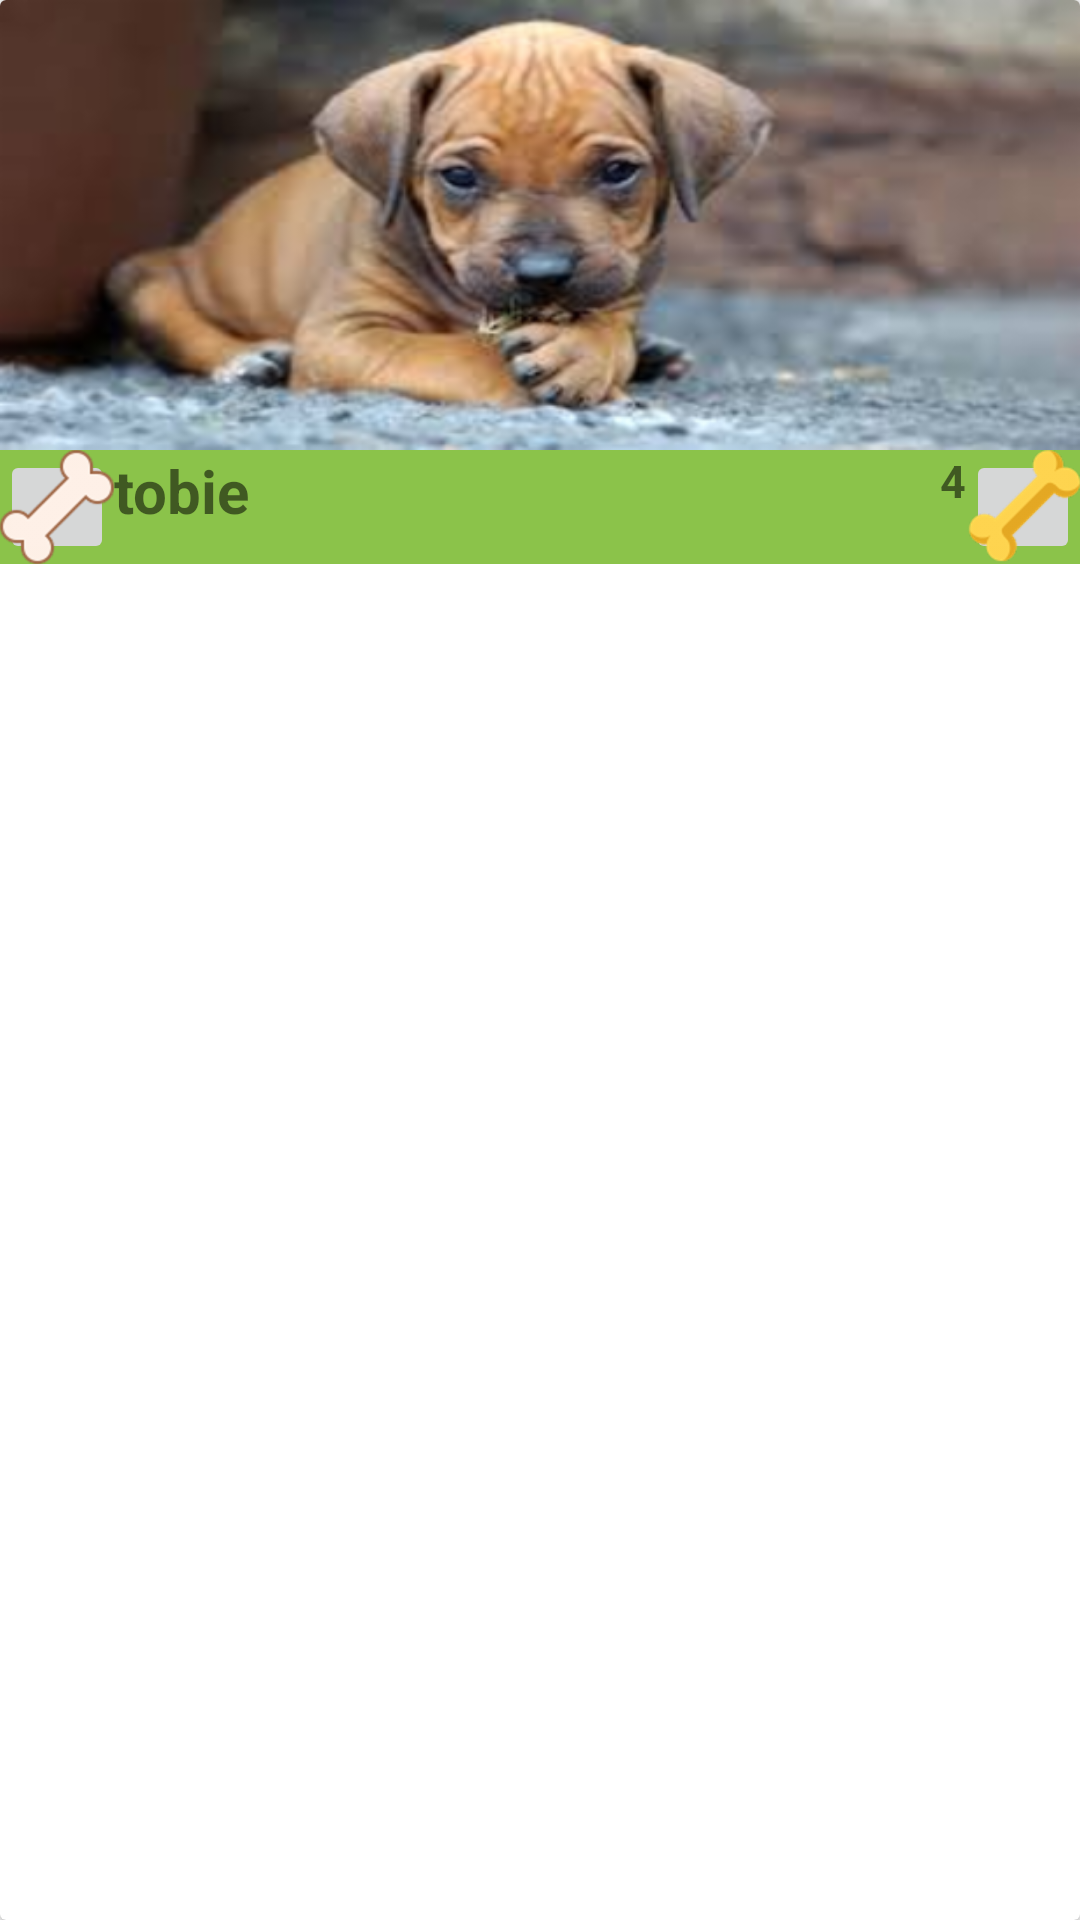

Where icons sit on this 1080 x 1920 app screen, as (x1, y1, x2, y2):
hueso: (0, 450, 114, 564), (969, 450, 1080, 561)
